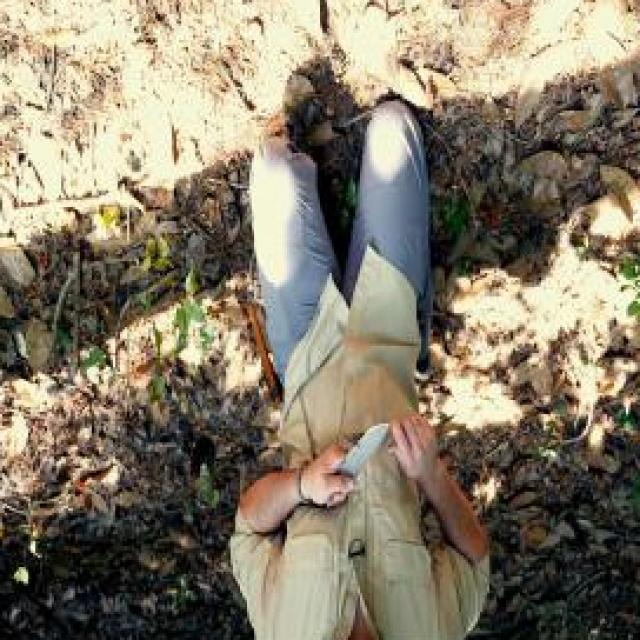knife: (304, 416, 392, 508)
